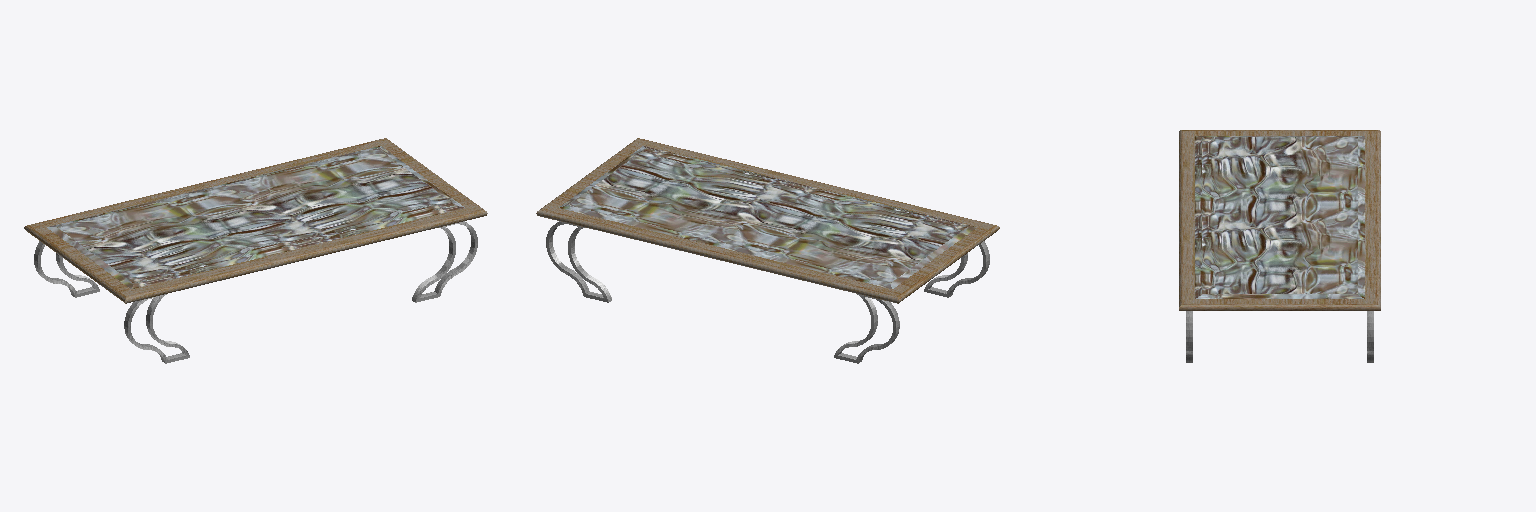
The picture shows the model from 3 angles: view 1: azimuth 30°, elevation 25°; view 2: azimuth 150°, elevation 25°; view 3: azimuth 270°, elevation 25°; orthographic projection.
Visible parts, largest first — view 1: Proj_FixFurnitureModel01-COM-CoffeeTable_GlassInsert-728740-Mate, Proj_FixFurnitureModel01-COM-Interior_Furn_TableCoffee0221-72892, Proj_FixFurnitureModel01-COM-Group_11-652907-MT_17, Proj_FixFurnitureModel01-COM-Group_8-652905-MT_17, Proj_FixFurnitureModel01-COM-Group_8-652906-MT_17; view 2: Proj_FixFurnitureModel01-COM-CoffeeTable_GlassInsert-728740-Mate, Proj_FixFurnitureModel01-COM-Interior_Furn_TableCoffee0221-72892, Proj_FixFurnitureModel01-COM-Group_12-652908-MT_17, Proj_FixFurnitureModel01-COM-Group_8-652906-MT_17, Proj_FixFurnitureModel01-COM-Group_8-652905-MT_17; view 3: Proj_FixFurnitureModel01-COM-CoffeeTable_GlassInsert-728740-Mate, Proj_FixFurnitureModel01-COM-Interior_Furn_TableCoffee0221-72892.
Boxes of the visible parts, x1=… form: Proj_FixFurnitureModel01-COM-CoffeeTable_GlassInsert-728740-Mate: x1=47, y1=146, x2=464, y2=288; Proj_FixFurnitureModel01-COM-Interior_Furn_TableCoffee0221-72892: x1=24, y1=138, x2=487, y2=303; Proj_FixFurnitureModel01-COM-Group_11-652907-MT_17: x1=412, y1=221, x2=477, y2=302; Proj_FixFurnitureModel01-COM-Group_8-652905-MT_17: x1=124, y1=294, x2=189, y2=363; Proj_FixFurnitureModel01-COM-Group_8-652906-MT_17: x1=34, y1=241, x2=99, y2=297; Proj_FixFurnitureModel01-COM-CoffeeTable_GlassInsert-728740-Mate: x1=559, y1=146, x2=976, y2=288; Proj_FixFurnitureModel01-COM-Interior_Furn_TableCoffee0221-72892: x1=536, y1=138, x2=999, y2=303; Proj_FixFurnitureModel01-COM-Group_12-652908-MT_17: x1=546, y1=221, x2=611, y2=302; Proj_FixFurnitureModel01-COM-Group_8-652906-MT_17: x1=834, y1=294, x2=899, y2=363; Proj_FixFurnitureModel01-COM-Group_8-652905-MT_17: x1=924, y1=241, x2=989, y2=297; Proj_FixFurnitureModel01-COM-CoffeeTable_GlassInsert-728740-Mate: x1=1195, y1=136, x2=1364, y2=298; Proj_FixFurnitureModel01-COM-Interior_Furn_TableCoffee0221-72892: x1=1179, y1=130, x2=1380, y2=310.
Bounding box in the file's own units: 1.47 × 0.3112 × 0.7112.
4 materials, 3 textured.